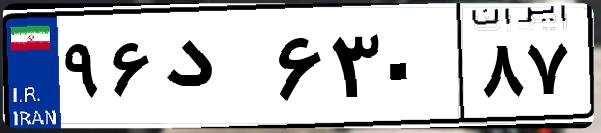0: (385, 28, 445, 110)
3: (330, 28, 385, 110)
6: (270, 28, 330, 110), (110, 28, 158, 98)
7: (525, 38, 570, 115)
8: (475, 38, 525, 113)
9: (57, 26, 110, 100)
د: (158, 20, 270, 120)
